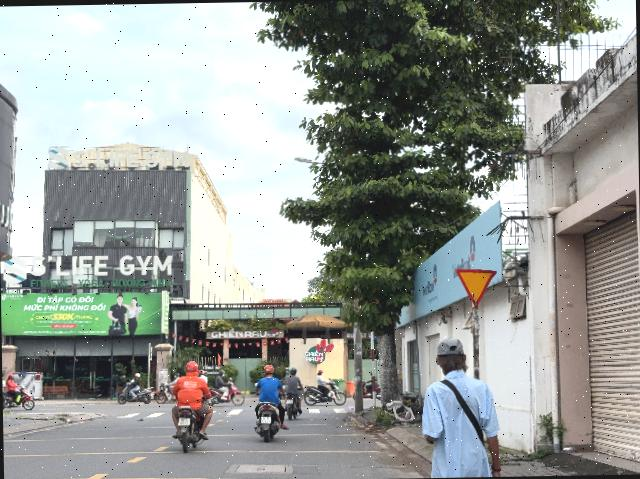giao-nhau-voi-duong-uu-tien: (456, 268, 498, 306)
